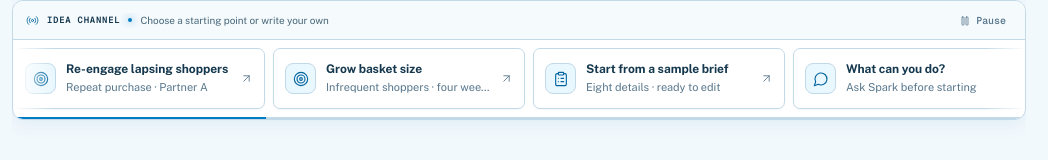
landing idea channel › lets a person pause, resume and select a scenario while keeping the selection visible
Later steps or results of the test are not shown.
Click the button with aria-label "Pause moving suggestions" at (983, 20), box left=953, top=10, right=1012, bottom=31
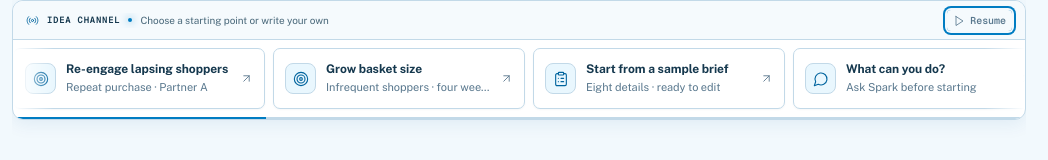
expect the button with aria-label "Resume moving suggestions" is pressed: met
Click the button with aria-label "Resume moving suggestions" at (980, 20), box left=947, top=10, right=1012, bottom=31
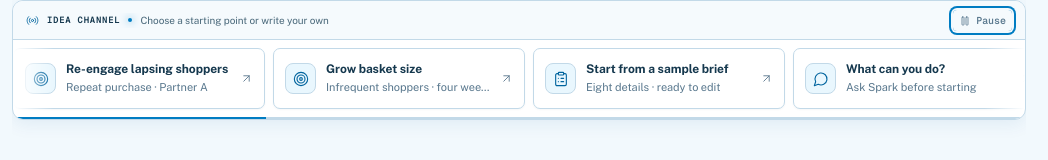
expect the button with aria-label "Pause moving suggestions" is not pressed: met, box left=953, top=10, right=1012, bottom=31
expect the element named "Campaign starting points" has attribute data-paused="false": met
